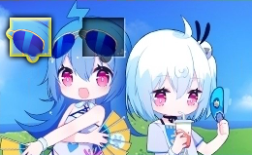gap: (79, 17, 124, 56)
